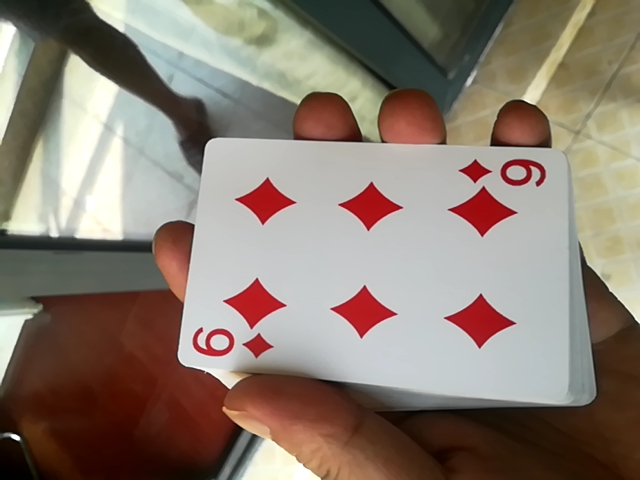fk 6: (175, 126, 590, 417)
